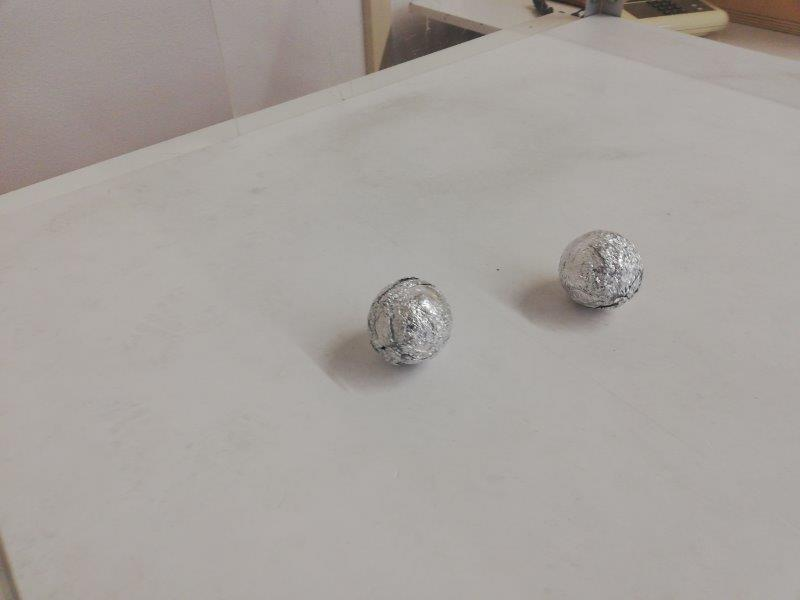bianca: (367, 274, 452, 364), (558, 228, 643, 308)
